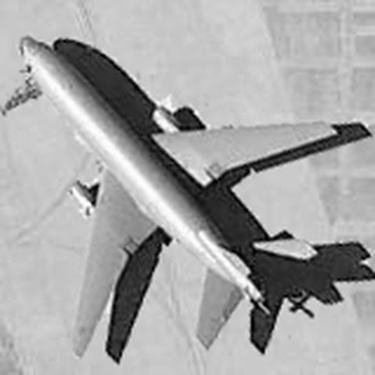airplane: (5, 26, 342, 359)
